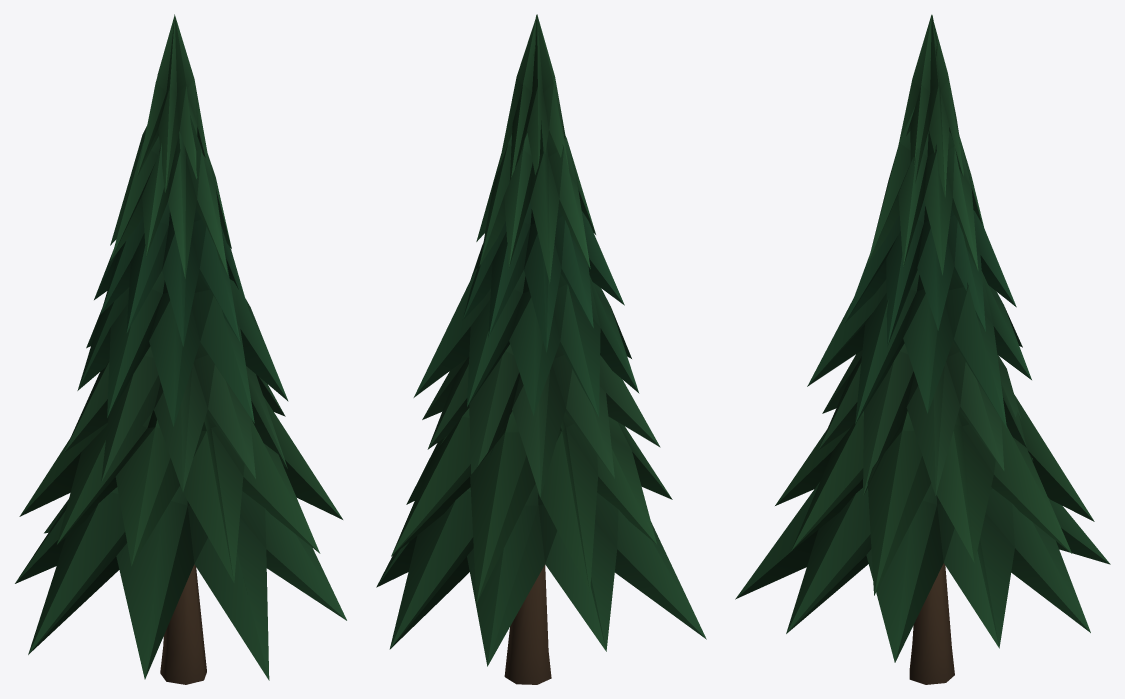
Rendered from spruce_a.glb.
3 renders of one model, left to right at view 1: azimuth 30°, elevation 25°; view 2: azimuth 150°, elevation 25°; view 3: azimuth 270°, elevation 25°, orthographic.
Visible parts, largest first — view 1: spruce_a; view 2: spruce_a; view 3: spruce_a.
Boxes of the visible parts, left/top/right/bottom form: spruce_a: left=15, top=14, right=346, bottom=684; spruce_a: left=376, top=14, right=706, bottom=684; spruce_a: left=735, top=14, right=1110, bottom=684.
Size of the model in its own units: 4.43 by 9.4 by 4.88.
